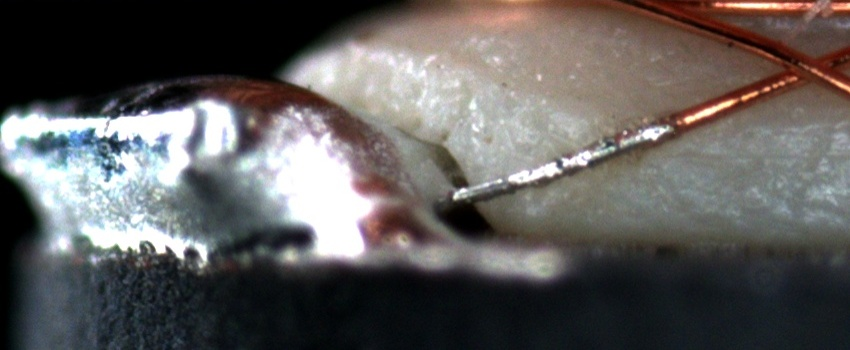CL: (756, 40, 846, 96)
DL: (663, 124, 850, 184)
TS: (449, 118, 675, 203)
